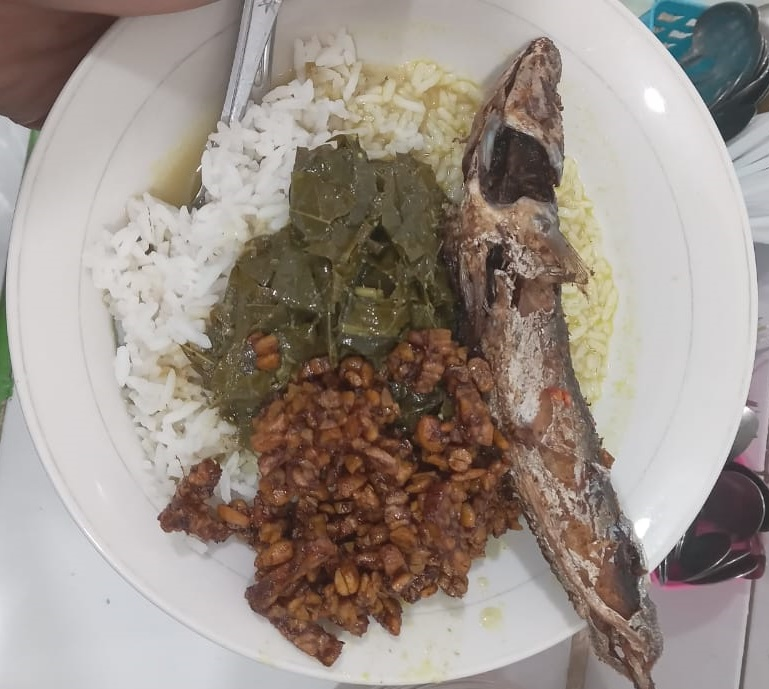Ikan_kembung: (484, 44, 651, 672)
Nasi: (87, 73, 200, 435)
Orek_tempe: (215, 404, 479, 605)
Sayur_daun_singkong: (227, 156, 450, 339)
